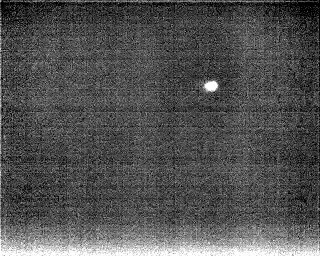AIRPLANE: (202, 78, 220, 95)
